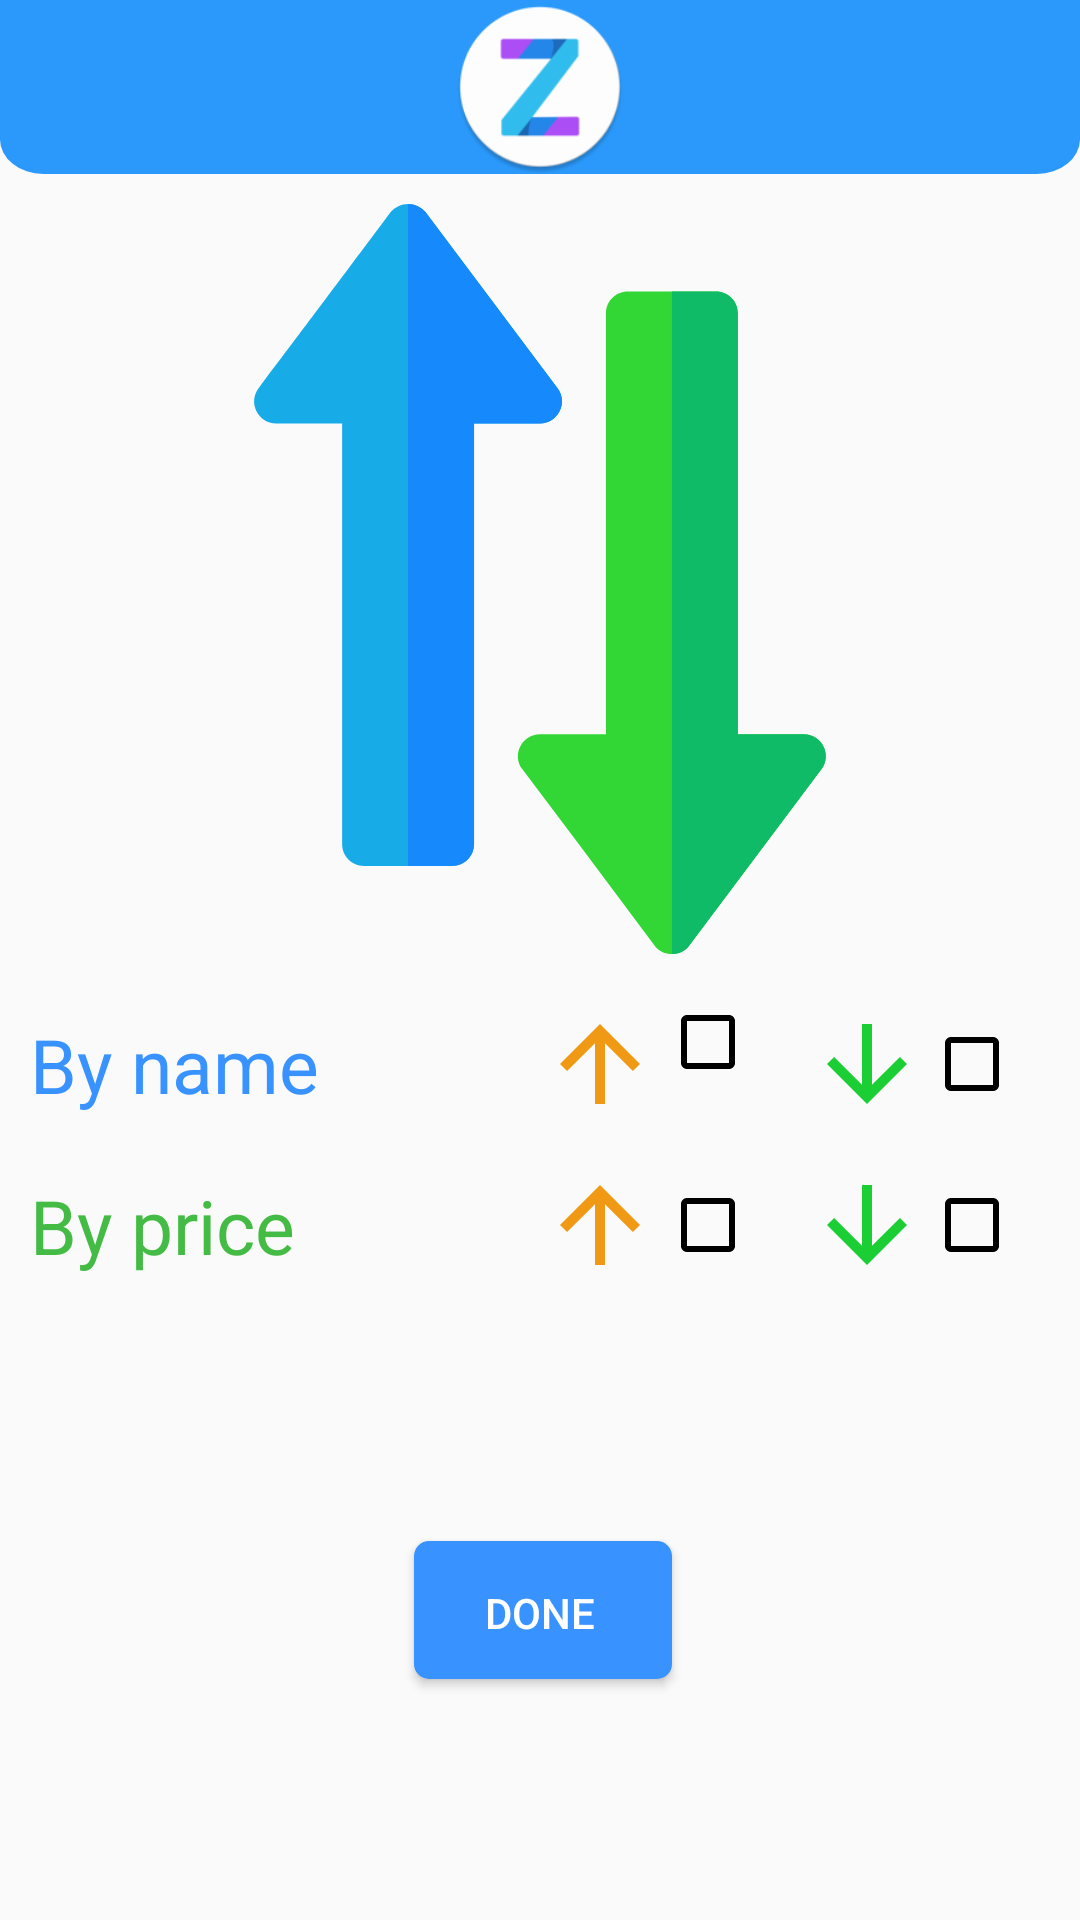

Locate icon controls on the screen. Image size 1080px×1920px, boxes as (x1, y1, x2, y2).
ascending arrow: (560, 1024, 640, 1104), (560, 1185, 640, 1265)
descending arrow: (827, 1024, 907, 1104), (827, 1185, 907, 1265)
